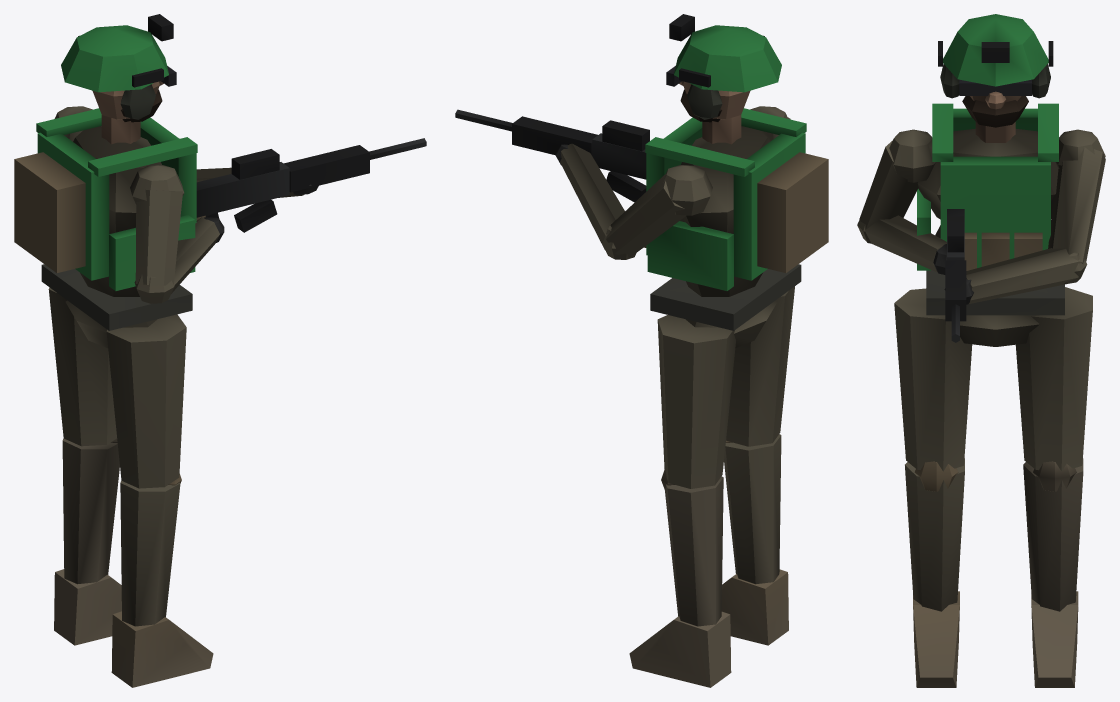
File: u_rifle_lod1.glb
3 views of the same model, side by side, from view 1: azimuth 30°, elevation 25°; view 2: azimuth 150°, elevation 25°; view 3: azimuth 270°, elevation 25° (orthographic). The views are drawn at different scales.
Visible parts, largest first — view 1: Rifle_LOD1_Walls, Rifle_LOD1_shL, Rifle_LOD1_thL, Rifle_LOD1_shR, Rifle_LOD1_thR, Rifle_LOD1_Details; view 2: Rifle_LOD1_Walls, Rifle_LOD1_shR, Rifle_LOD1_thR, Rifle_LOD1_shL, Rifle_LOD1_thL, Rifle_LOD1_Details; view 3: Rifle_LOD1_Walls, Rifle_LOD1_shR, Rifle_LOD1_shL, Rifle_LOD1_thR, Rifle_LOD1_thL, Rifle_LOD1_Details.
Boxes of the visible parts, <box> form: Rifle_LOD1_Walls: <box>14,14,426,348</box>; Rifle_LOD1_shL: <box>111,474,213,687</box>; Rifle_LOD1_thL: <box>106,314,186,488</box>; Rifle_LOD1_shR: <box>54,438,121,645</box>; Rifle_LOD1_thR: <box>48,287,116,446</box>; Rifle_LOD1_Details: <box>41,35,192,330</box>; Rifle_LOD1_Walls: <box>455,14,828,347</box>; Rifle_LOD1_shR: <box>629,467,731,687</box>; Rifle_LOD1_thR: <box>657,315,735,488</box>; Rifle_LOD1_shL: <box>721,434,788,645</box>; Rifle_LOD1_thL: <box>726,286,794,446</box>; Rifle_LOD1_Details: <box>650,35,801,330</box>; Rifle_LOD1_Walls: <box>857,14,1105,346</box>; Rifle_LOD1_shR: <box>1023,458,1083,687</box>; Rifle_LOD1_shL: <box>905,458,964,687</box>; Rifle_LOD1_thR: <box>1015,287,1092,471</box>; Rifle_LOD1_thL: <box>894,288,972,471</box>; Rifle_LOD1_Details: <box>926,41,1064,315</box>.
Size of the model in its own units: 0.372 by 0.6016 by 0.2118.
